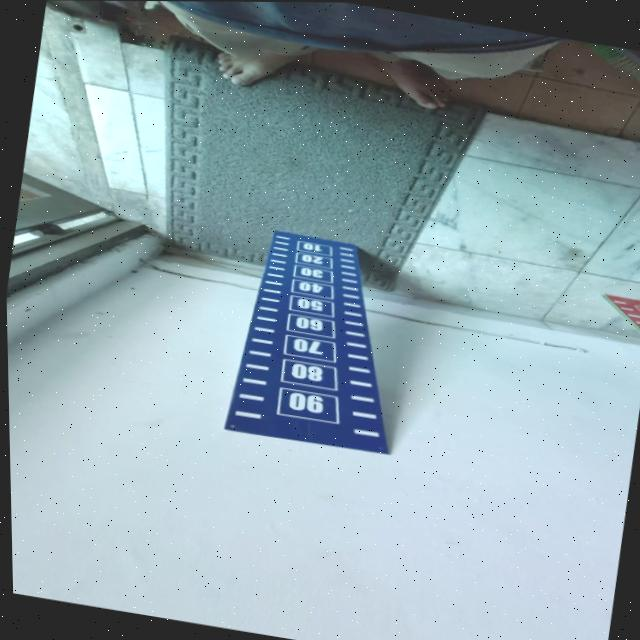water-meter: (195, 211, 455, 475)
